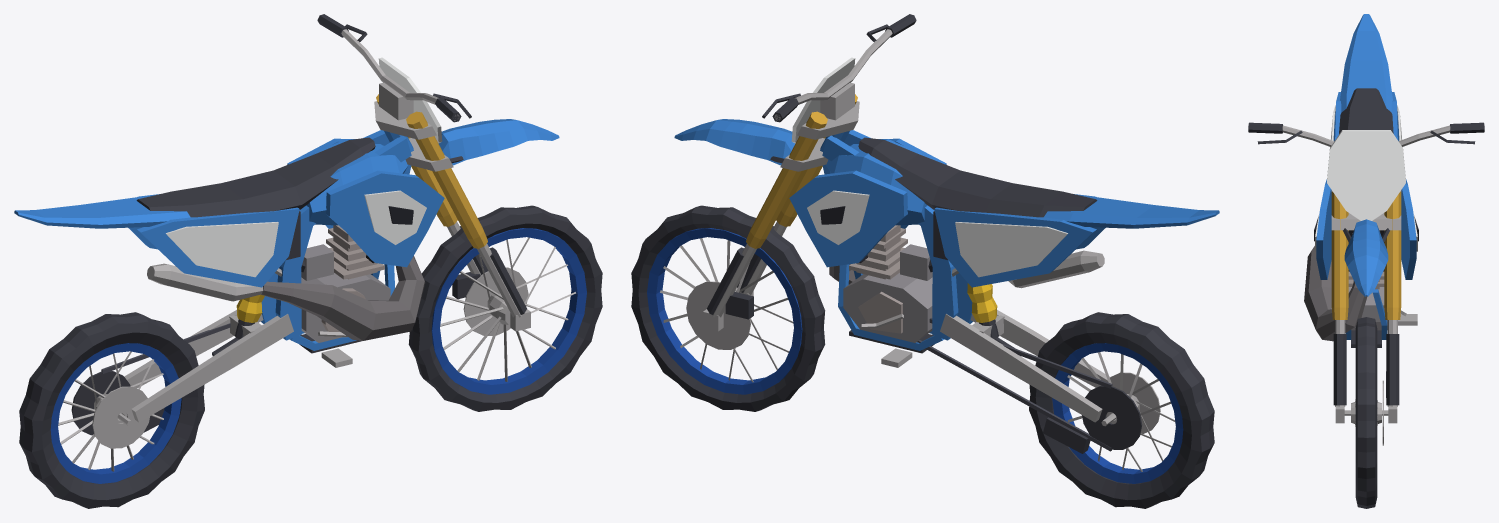
File: race_bike_youth.glb
The picture shows the model from 3 angles, left to right: view 1: azimuth 30°, elevation 25°; view 2: azimuth 150°, elevation 25°; view 3: azimuth 270°, elevation 25°; orthographic projection. The views are drawn at different scales.
Visible parts, largest first — view 1: race_bike_youth; view 2: race_bike_youth; view 3: race_bike_youth.
Boxes of the visible parts, x1,y1,x2,y2 form: race_bike_youth: (14, 14, 602, 508); race_bike_youth: (631, 14, 1219, 508); race_bike_youth: (1248, 14, 1484, 508).
Size of the model in its own units: 1.85 by 1.13 by 0.7412.
